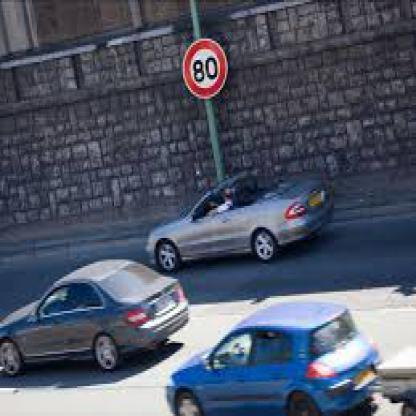Speed Limit 80: (181, 40, 226, 95)
